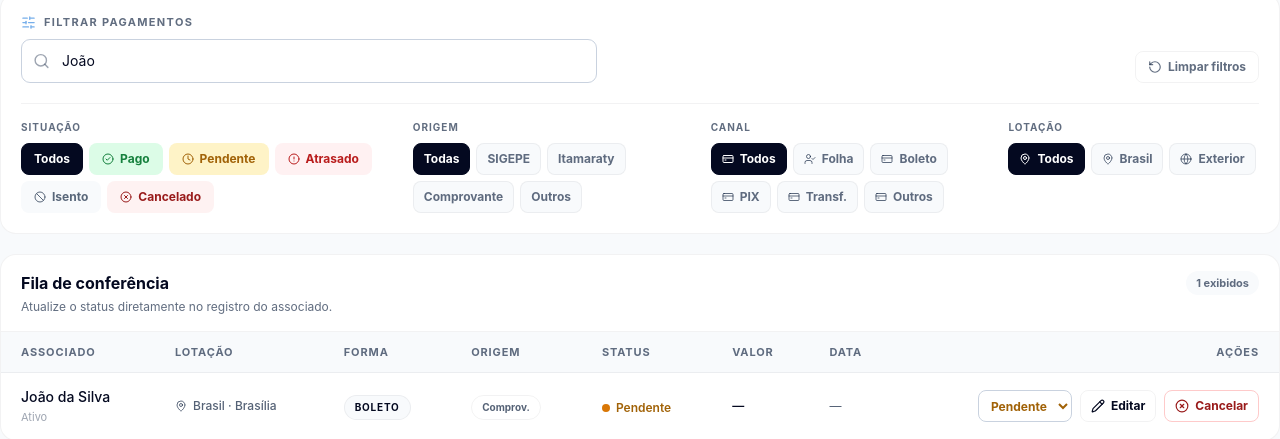
Test: MonthlyPaymentsTable › clears the local search state when filters are cleared
Check: the field named "Buscar associado por nome" holds "João", box left=21, top=38, right=597, bottom=82
Click the button "Limpar filtros": (1197, 66) left=1135, top=50, right=1259, bottom=82
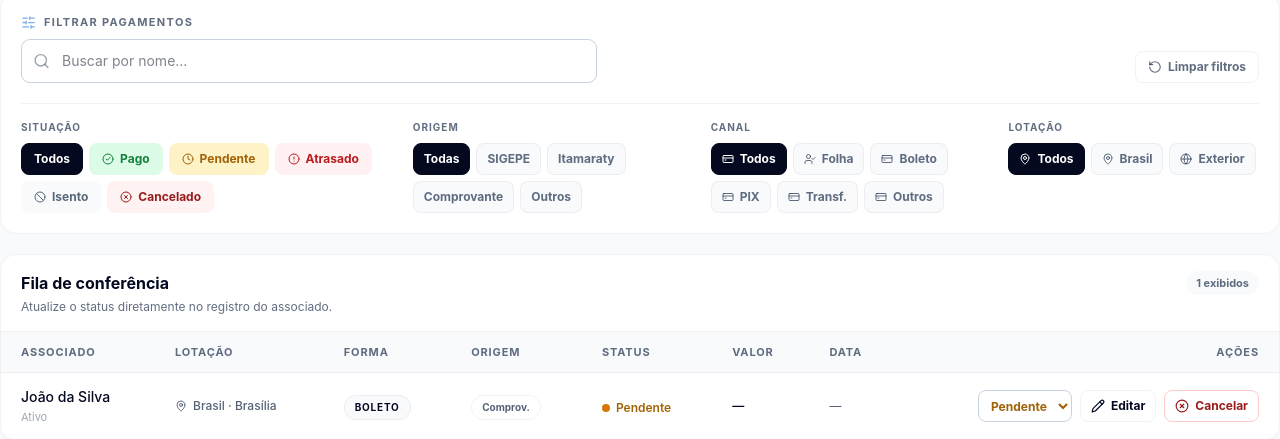
Check: the field named "Buscar associado por nome" is empty, box left=21, top=38, right=597, bottom=82
